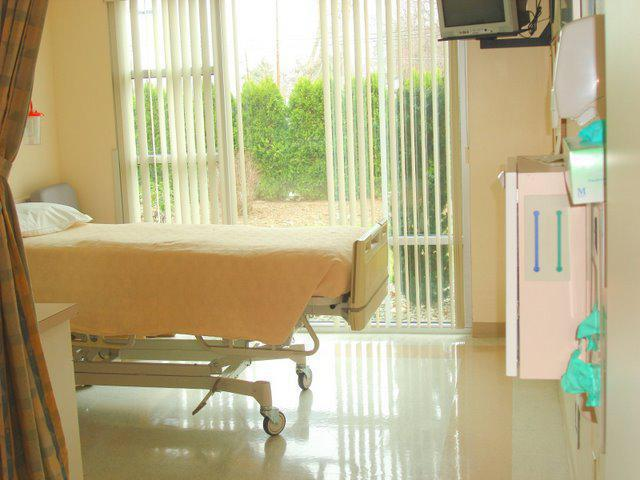Cama: (11, 204, 404, 438)
Electrodomestico: (504, 166, 585, 383)
Ventana: (107, 9, 472, 334)
